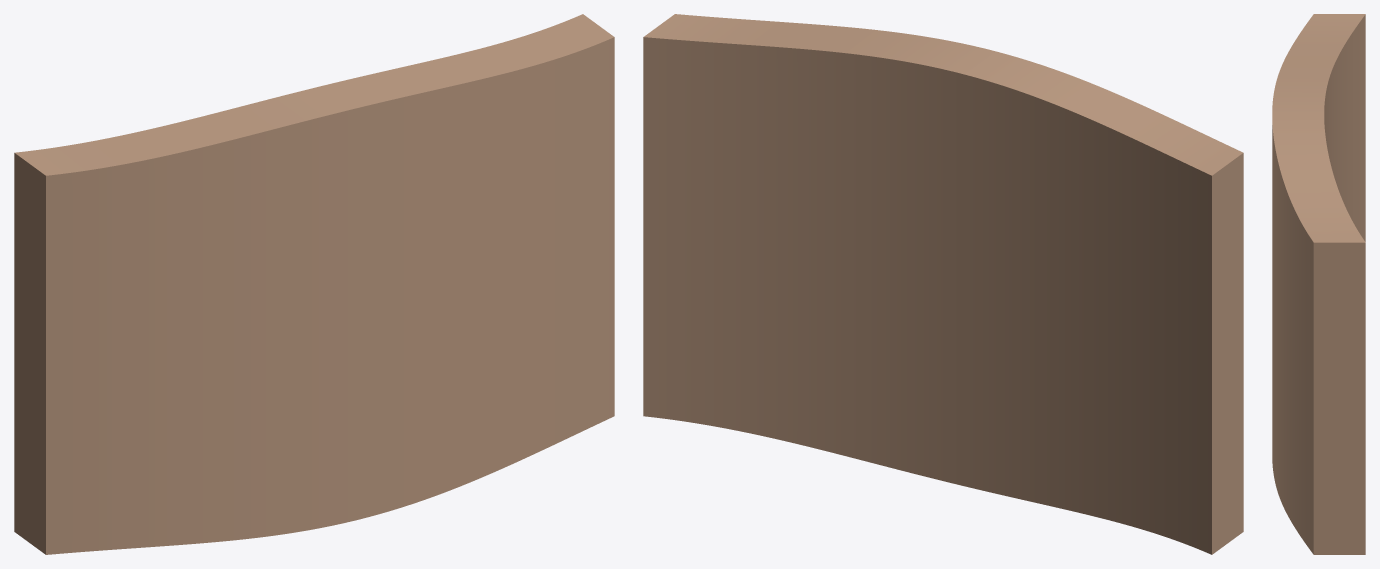
The model's file is POT1.glb.
The picture shows the model from 3 angles, left to right: view 1: azimuth 30°, elevation 25°; view 2: azimuth 150°, elevation 25°; view 3: azimuth 270°, elevation 25°; orthographic projection. The views are drawn at different scales.
Visible parts, largest first — view 1: POT1/0000_curved_shard; view 2: POT1/0000_curved_shard; view 3: POT1/0000_curved_shard.
Part boxes in pixels (box(x1,y1,x2,y2)): POT1/0000_curved_shard: box(14, 14, 614, 554); POT1/0000_curved_shard: box(643, 14, 1243, 554); POT1/0000_curved_shard: box(1272, 14, 1365, 554).
Size of the model in its own units: 0.13 by 0.09 by 0.0225.
